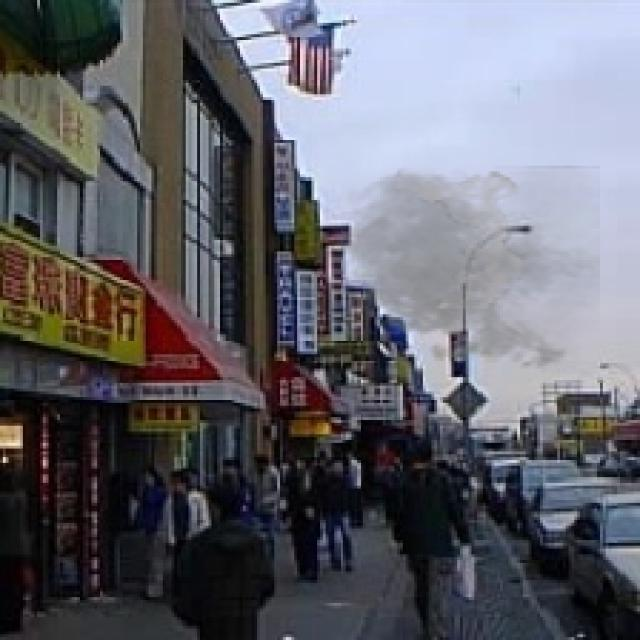Smoke: (323, 166, 600, 374)
